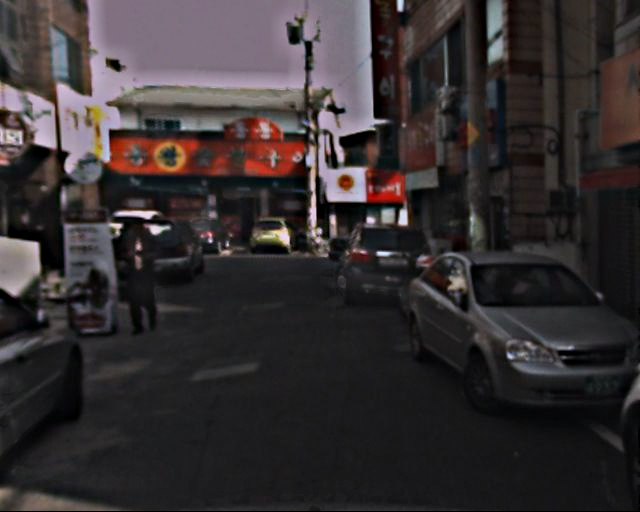person: (115, 218, 169, 339)
